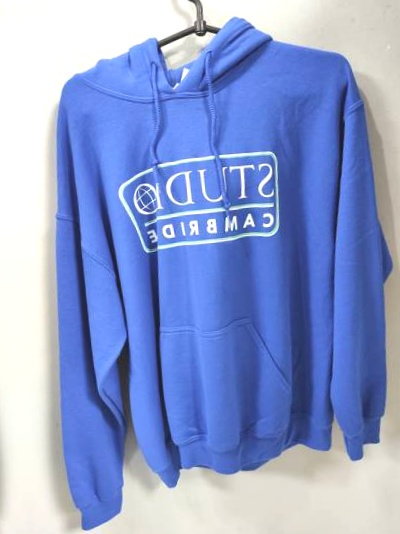Hoodie: (1, 0, 400, 526), (0, 29, 20, 534)
